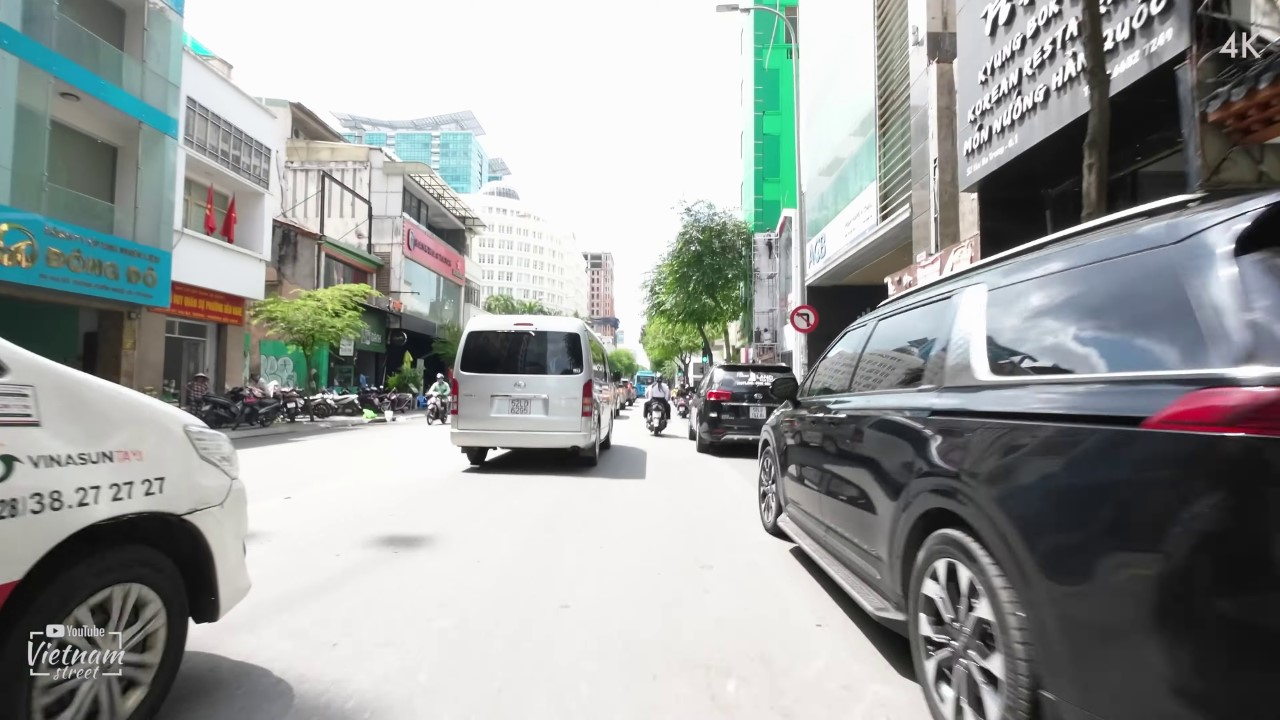cam_re_trai: (788, 305, 819, 334)
